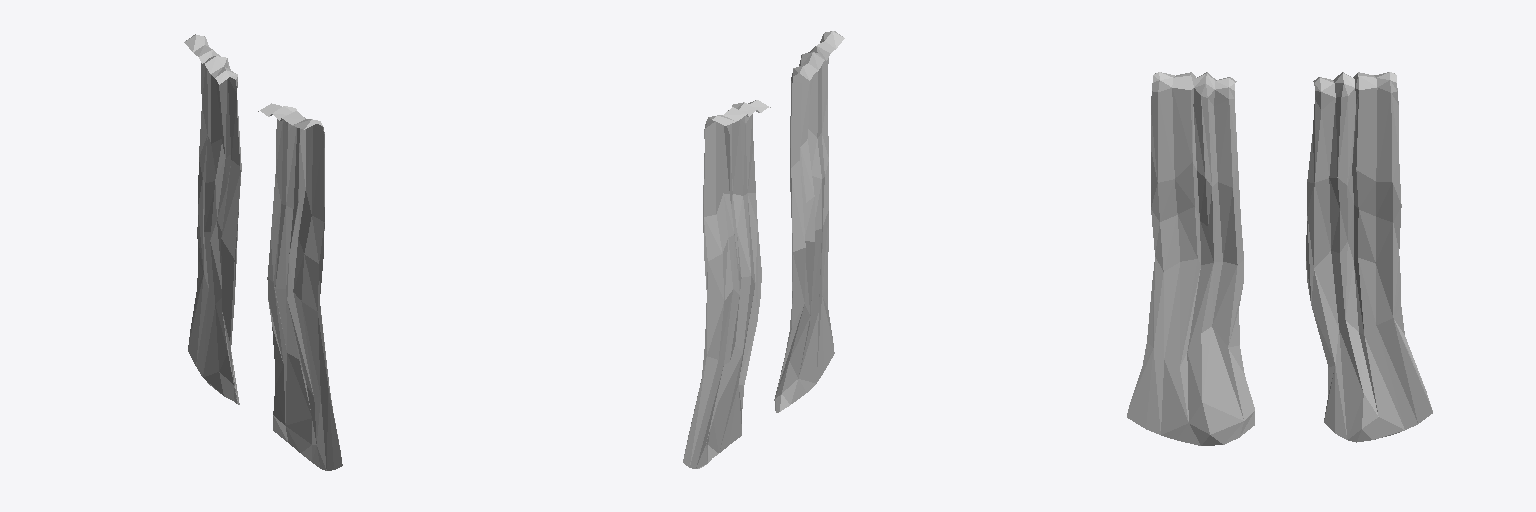
The model's file is curtain2a.obj.
3 views of the same model, side by side, from view 1: azimuth 30°, elevation 25°; view 2: azimuth 150°, elevation 25°; view 3: azimuth 270°, elevation 25° (orthographic).
Bounding box in the file's own units: 0.2471 × 2.02 × 1.54.